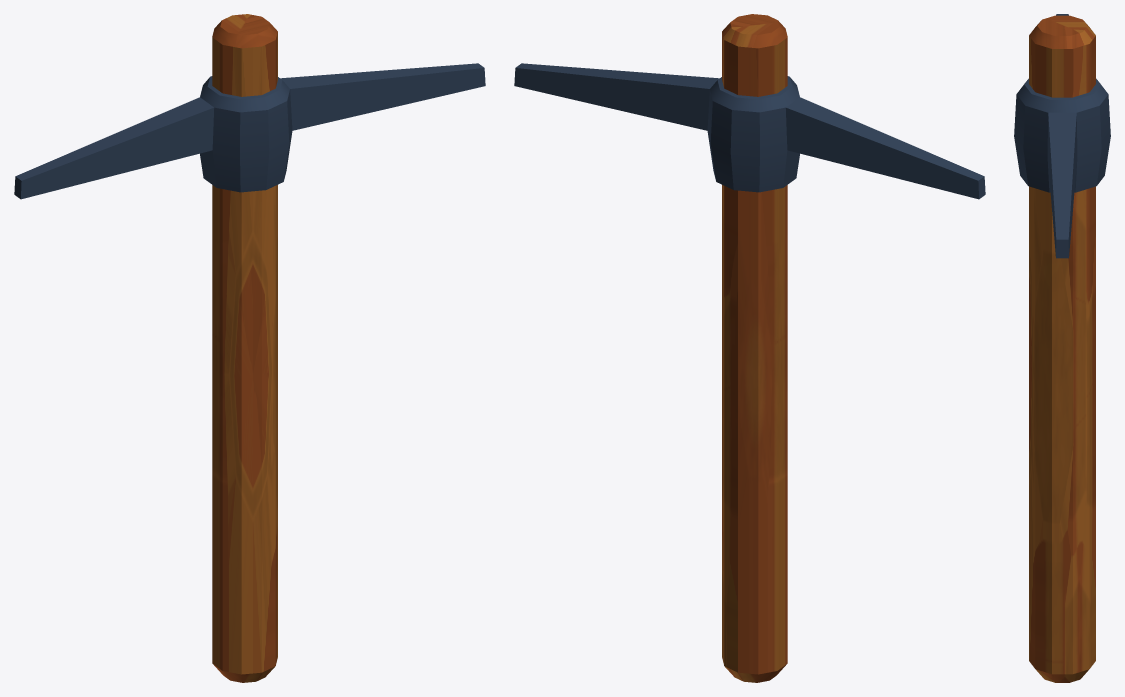
Rendered from Piccone 1.fbx.
The picture shows the model from 3 angles, left to right: view 1: azimuth 30°, elevation 25°; view 2: azimuth 150°, elevation 25°; view 3: azimuth 270°, elevation 25°; orthographic projection.
Parts seen in each view (by area): view 1: Piccone; view 2: Piccone; view 3: Piccone.
Boxes of the visible parts, x1,y1,x2,y2 form: Piccone: (14, 14, 485, 682); Piccone: (514, 14, 985, 682); Piccone: (1014, 14, 1110, 682).
Bounding box in the file's own units: 114 × 152 × 20.61.
